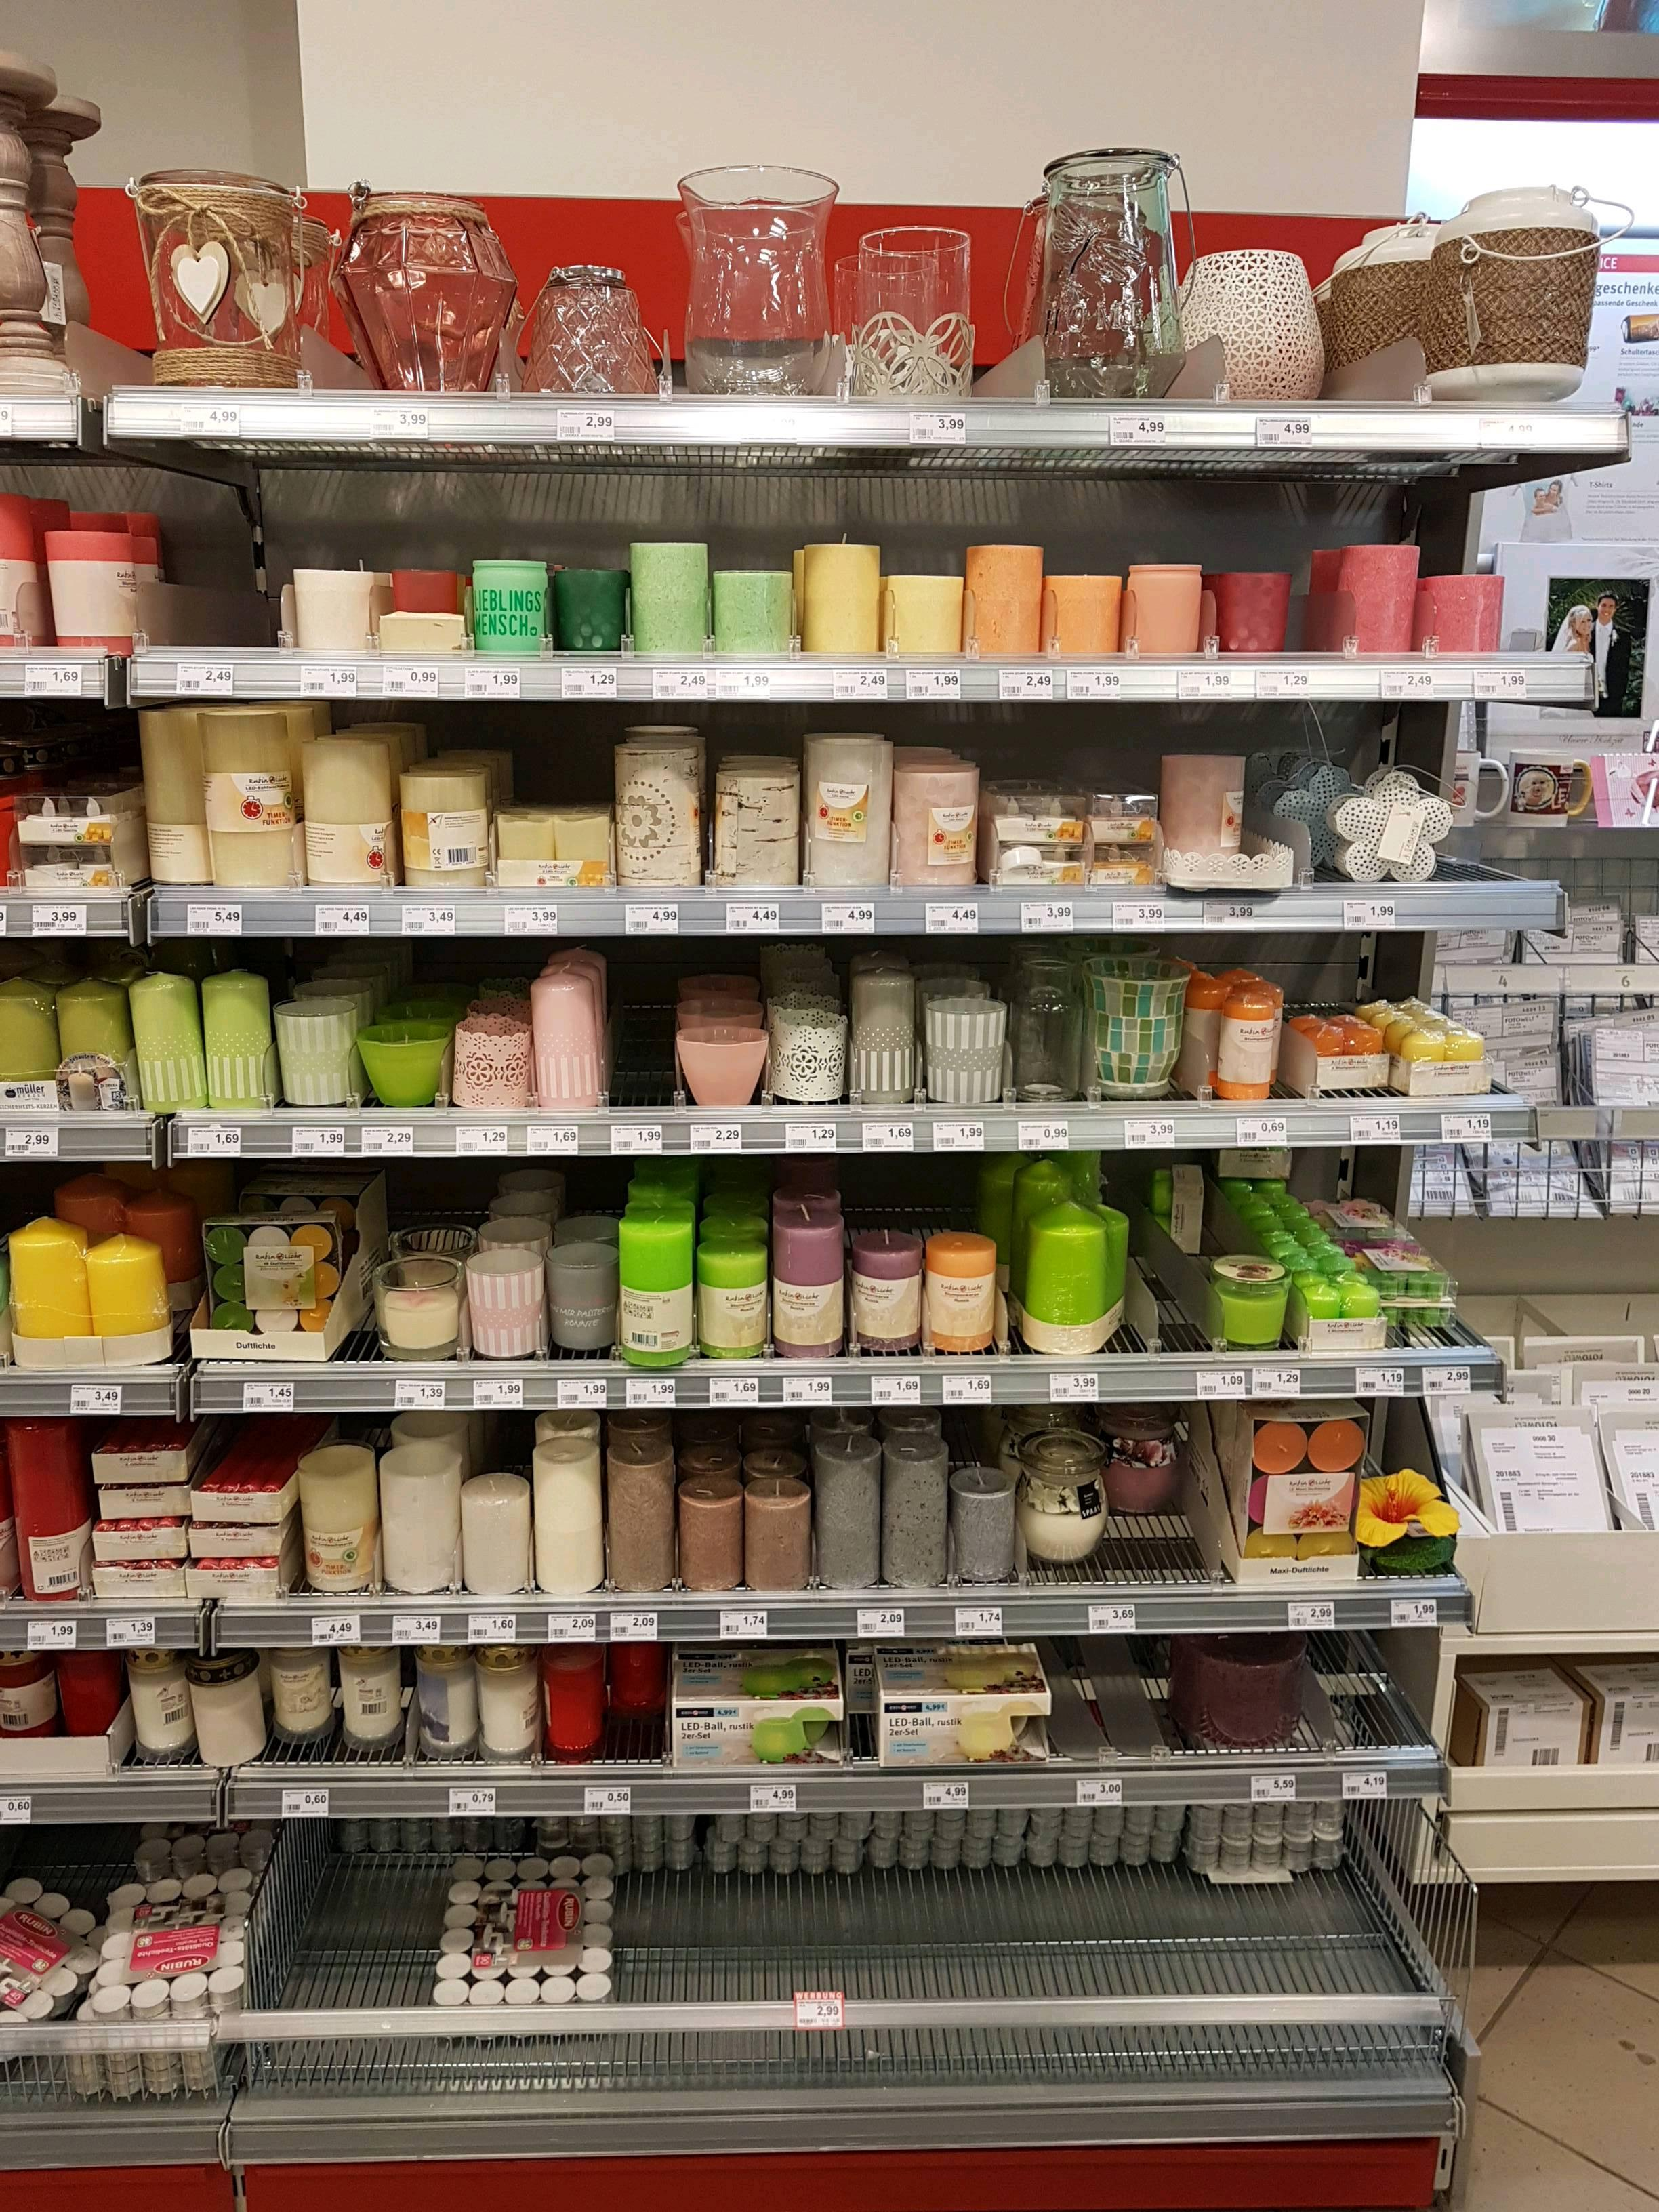empty: (178, 516, 270, 648), (1162, 1169, 1206, 1348), (620, 951, 671, 1097), (1352, 1637, 1413, 1747)
misalignment: (312, 1806, 1401, 2012), (7, 1862, 244, 2019)
